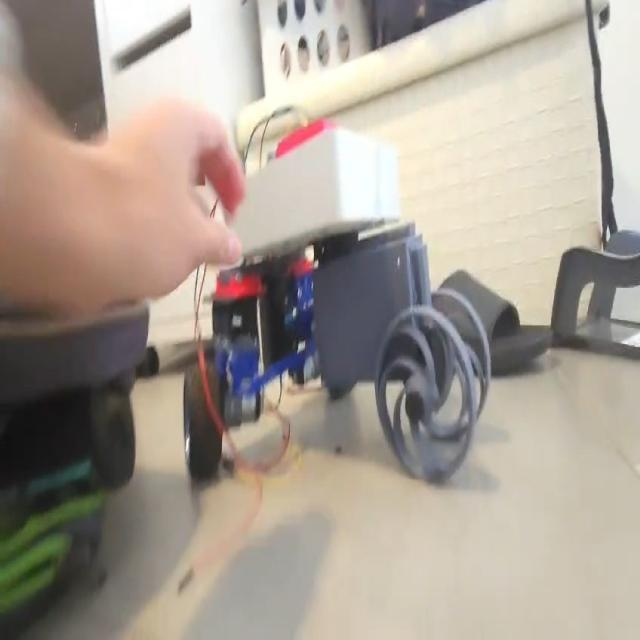Robot: (183, 114, 492, 482)
